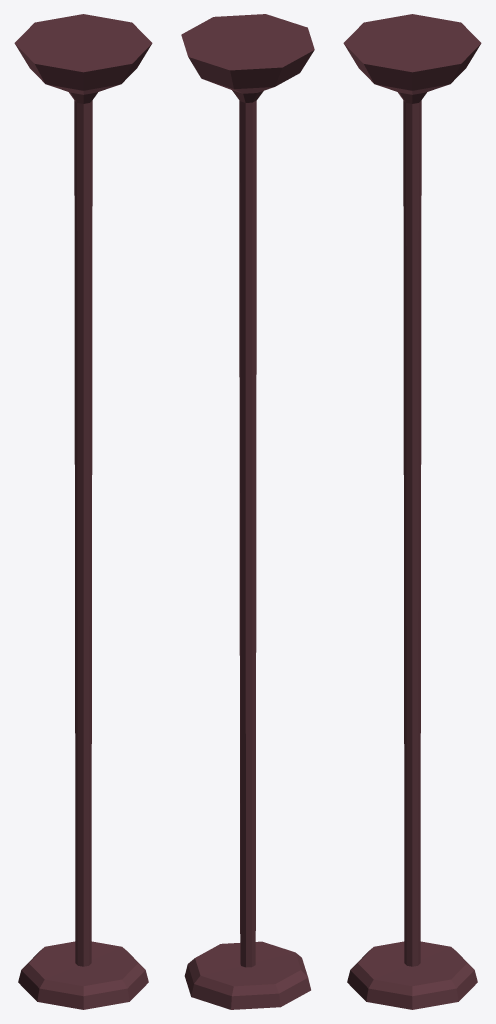
The model's file is furniture-lamp-floor-tall-a.glb.
3 views of the same model, side by side, from view 1: azimuth 90°, elevation 25°; view 2: azimuth 210°, elevation 25°; view 3: azimuth 270°, elevation 25° (orthographic).
Visible parts, largest first — view 1: lamp-floor-tall-a; view 2: lamp-floor-tall-a; view 3: lamp-floor-tall-a.
Part boxes in pixels (x1,y1,x2,y2): lamp-floor-tall-a: (14,14,152,1009); lamp-floor-tall-a: (181,14,314,1009); lamp-floor-tall-a: (343,14,481,1009).
Size of the model in its own units: 0.2305 by 1.73 by 0.2305.
